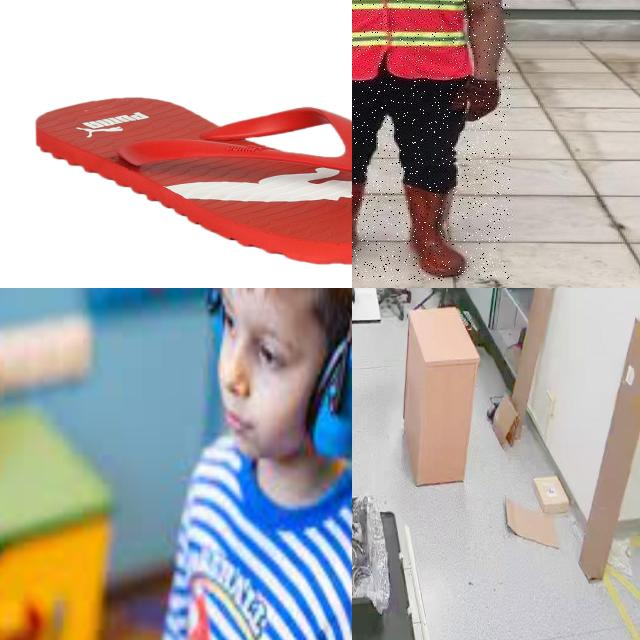Ear-protection: (209, 288, 352, 481)
Sandals: (32, 94, 352, 267)
boots: (396, 179, 468, 277), (352, 182, 366, 274)
person: (158, 288, 352, 640), (352, 0, 510, 281)
vest: (352, 0, 472, 77)
